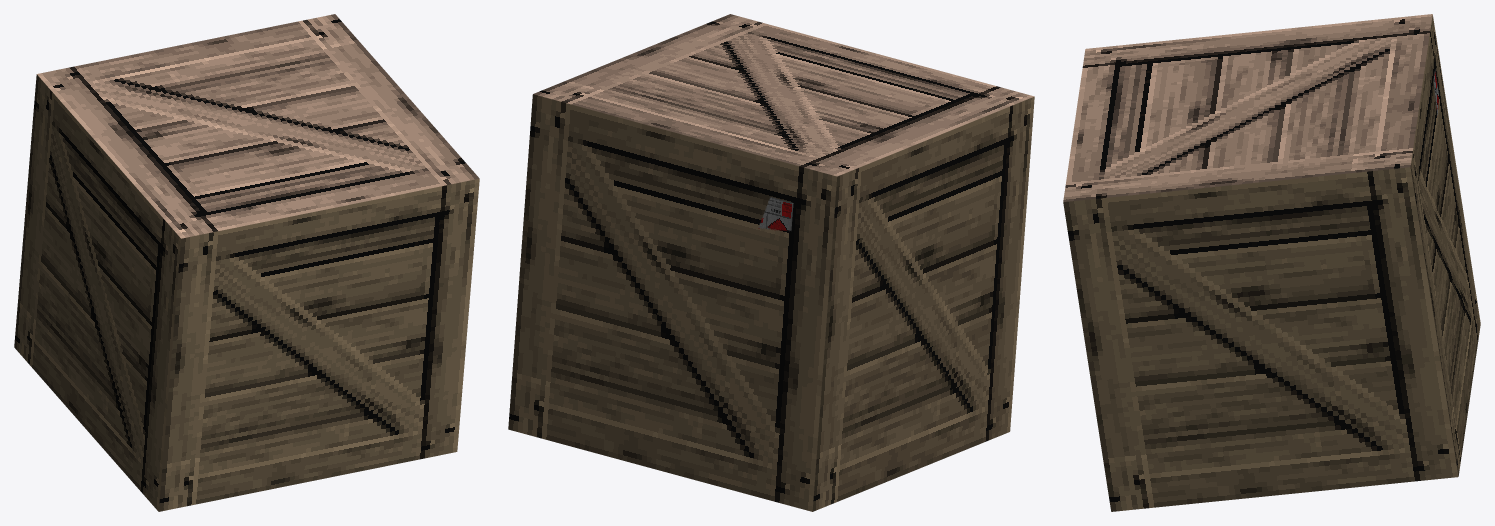
File: primary_142.glb
3 renders of one model, left to right at view 1: azimuth 30°, elevation 25°; view 2: azimuth 150°, elevation 25°; view 3: azimuth 270°, elevation 25°, orthographic. The views are drawn at different scales.
Parts seen in each view (by area): view 1: Object; view 2: Object; view 3: Object.
Part boxes in pixels (bbox=[...]): Object: bbox=[14, 14, 479, 511]; Object: bbox=[508, 14, 1034, 511]; Object: bbox=[1063, 14, 1480, 511].
Size of the model in its own units: 1.08 by 1.13 by 1.2.
7 materials, 7 textured.
